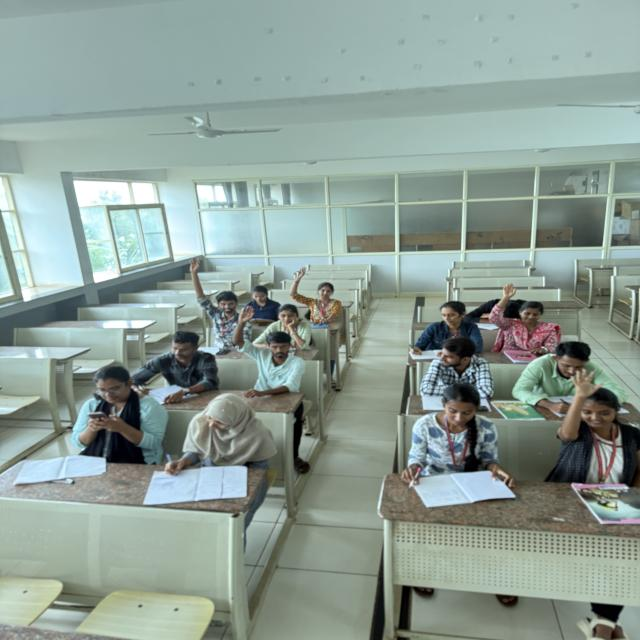Hand Rising: (547, 364, 640, 493), (177, 252, 254, 341), (226, 301, 297, 390), (482, 276, 564, 347), (288, 266, 352, 325)
Using Phone: (64, 355, 166, 455)
Writing: (393, 382, 524, 500), (154, 394, 273, 496), (506, 340, 630, 414), (127, 328, 220, 402), (398, 301, 486, 357)
